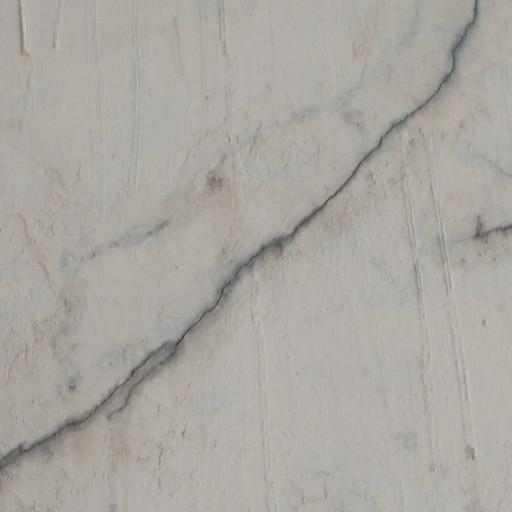major_crack: (0, 0, 485, 472)
